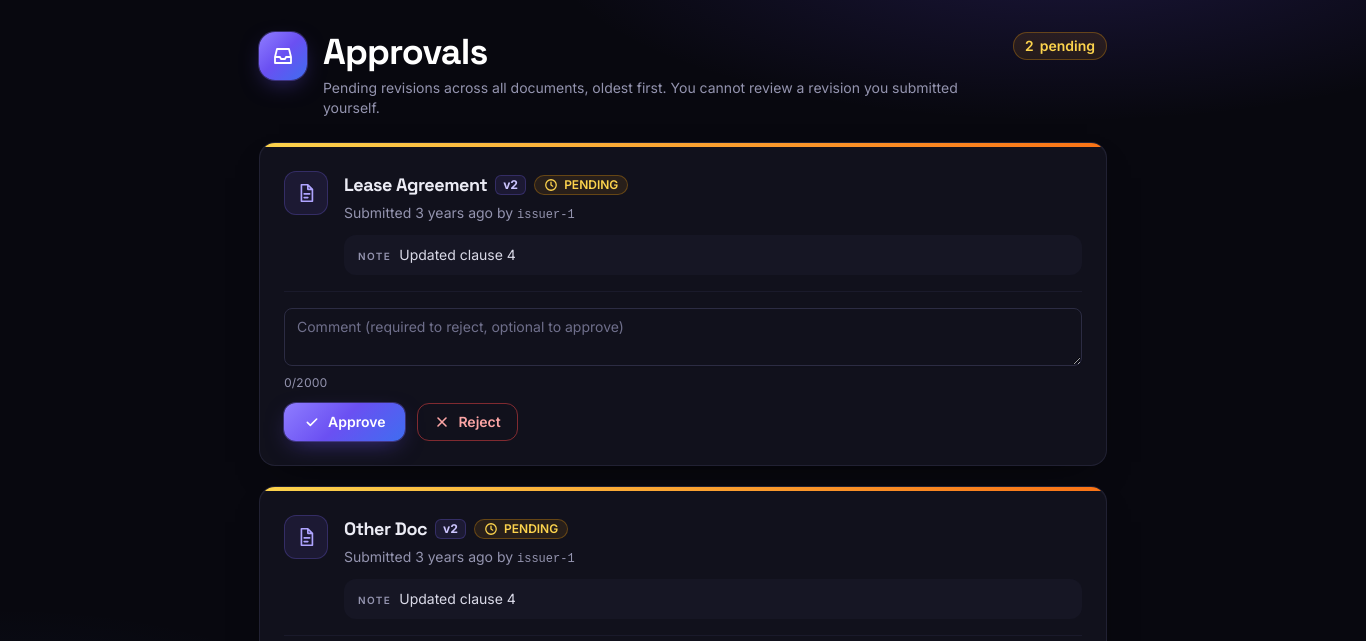
Scenario: ApprovalsQueue › shows the backend message for other errors without hiding the rest of the queue
Click the button "Approve" below "Lease Agreement".
click(345, 422)  # box [284, 403, 405, 441]
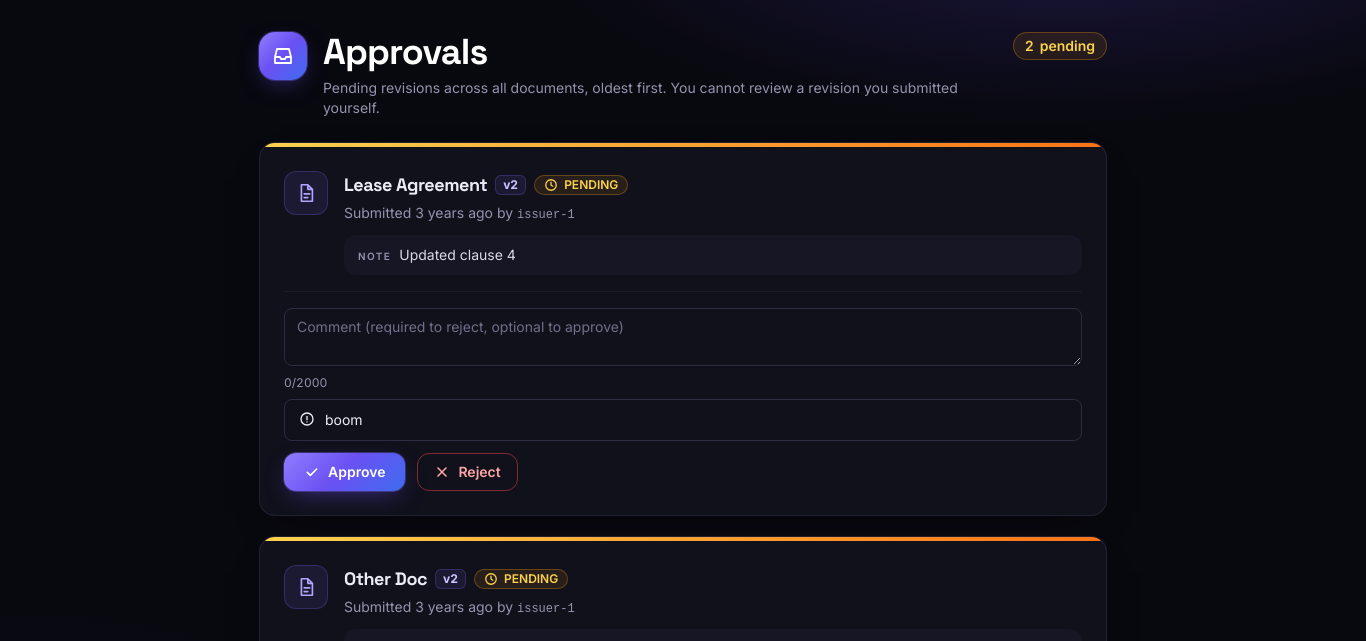
Expected: the link "Other Doc" is shown, [344, 565, 427, 593]
Expected: the text "boom" is shown, [325, 410, 363, 430]
